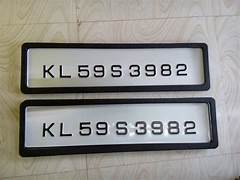number_plate: (27, 48, 205, 85)
